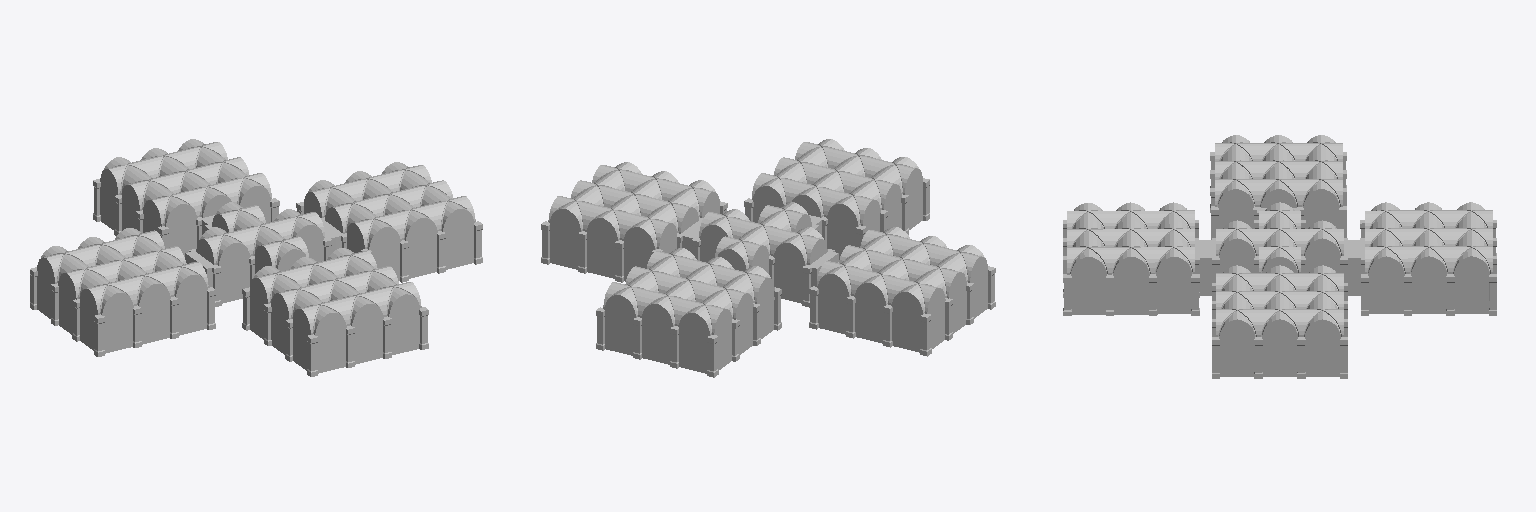
The model's file is rooms.obj.
3 renders of one model, left to right at view 1: azimuth 30°, elevation 25°; view 2: azimuth 150°, elevation 25°; view 3: azimuth 270°, elevation 25°, orthographic.
Visible parts, largest first — view 1: RoomCap_brickwall1_0, RoomCap_brickwall1_0.002_RoomCap_brickwall1_0.003, RoomCap_brickwall1_0.003_RoomCap_brickwall1_0.004, RoomCap_brickwall1_0.001_RoomCap_brickwall1_0.002, Hall.X_brickwall1_0, RoomCap_stonetrims_0.002_RoomCap_stonetrims_0.003, RoomCap_stonetrims_0, RoomCap_stonetrims_0.003_RoomCap_stonetrims_0.004, RoomCap_stonetrims_0.001_RoomCap_stonetrims_0.002, Hall.X_stonetrims_0; view 2: RoomCap_brickwall1_0, RoomCap_brickwall1_0.001_RoomCap_brickwall1_0.002, RoomCap_brickwall1_0.003_RoomCap_brickwall1_0.004, RoomCap_brickwall1_0.002_RoomCap_brickwall1_0.003, Hall.X_brickwall1_0, RoomCap_stonetrims_0, RoomCap_stonetrims_0.001_RoomCap_stonetrims_0.002, RoomCap_stonetrims_0.003_RoomCap_stonetrims_0.004, RoomCap_stonetrims_0.002_RoomCap_stonetrims_0.003, Hall.X_stonetrims_0; view 3: RoomCap_brickwall1_0.003_RoomCap_brickwall1_0.004, RoomCap_brickwall1_0.001_RoomCap_brickwall1_0.002, RoomCap_brickwall1_0.002_RoomCap_brickwall1_0.003, RoomCap_brickwall1_0, Hall.X_brickwall1_0, RoomCap_stonetrims_0.002_RoomCap_stonetrims_0.003, RoomCap_stonetrims_0.001_RoomCap_stonetrims_0.002, RoomCap_stonetrims_0.003_RoomCap_stonetrims_0.004, RoomCap_stonetrims_0, Hall.X_stonetrims_0.
Part boxes in pixels (bbox=[...]): RoomCap_brickwall1_0: bbox=[30, 228, 214, 353]; RoomCap_brickwall1_0.002_RoomCap_brickwall1_0.003: bbox=[243, 249, 427, 373]; RoomCap_brickwall1_0.003_RoomCap_brickwall1_0.004: bbox=[297, 163, 481, 280]; RoomCap_brickwall1_0.001_RoomCap_brickwall1_0.002: bbox=[94, 140, 278, 256]; Hall.X_brickwall1_0: bbox=[196, 203, 331, 303]; RoomCap_stonetrims_0.002_RoomCap_stonetrims_0.003: bbox=[242, 248, 428, 376]; RoomCap_stonetrims_0: bbox=[30, 228, 215, 356]; RoomCap_stonetrims_0.003_RoomCap_stonetrims_0.004: bbox=[296, 162, 482, 282]; RoomCap_stonetrims_0.001_RoomCap_stonetrims_0.002: bbox=[93, 139, 279, 235]; Hall.X_stonetrims_0: bbox=[186, 202, 335, 306]; RoomCap_brickwall1_0: bbox=[810, 228, 994, 352]; RoomCap_brickwall1_0.001_RoomCap_brickwall1_0.002: bbox=[597, 249, 780, 373]; RoomCap_brickwall1_0.003_RoomCap_brickwall1_0.004: bbox=[542, 163, 726, 281]; RoomCap_brickwall1_0.002_RoomCap_brickwall1_0.003: bbox=[745, 140, 929, 259]; Hall.X_brickwall1_0: bbox=[692, 203, 827, 303]; RoomCap_stonetrims_0: bbox=[809, 227, 995, 356]; RoomCap_stonetrims_0.001_RoomCap_stonetrims_0.002: bbox=[596, 248, 781, 377]; RoomCap_stonetrims_0.003_RoomCap_stonetrims_0.004: bbox=[541, 162, 727, 282]; RoomCap_stonetrims_0.002_RoomCap_stonetrims_0.003: bbox=[744, 139, 929, 234]; Hall.X_stonetrims_0: bbox=[688, 202, 837, 307]; RoomCap_brickwall1_0.003_RoomCap_brickwall1_0.004: bbox=[1212, 266, 1347, 376]; RoomCap_brickwall1_0.001_RoomCap_brickwall1_0.002: bbox=[1361, 203, 1496, 313]; RoomCap_brickwall1_0.002_RoomCap_brickwall1_0.003: bbox=[1063, 203, 1198, 314]; RoomCap_brickwall1_0: bbox=[1211, 136, 1346, 239]; Hall.X_brickwall1_0: bbox=[1212, 203, 1347, 282]; RoomCap_stonetrims_0.002_RoomCap_stonetrims_0.003: bbox=[1063, 202, 1205, 315]; RoomCap_stonetrims_0.001_RoomCap_stonetrims_0.002: bbox=[1354, 202, 1496, 315]; RoomCap_stonetrims_0.003_RoomCap_stonetrims_0.004: bbox=[1212, 265, 1347, 378]; RoomCap_stonetrims_0: bbox=[1210, 135, 1346, 215]; Hall.X_stonetrims_0: bbox=[1205, 202, 1354, 295].
Size of the model in its own units: 41.76 by 6.02 by 40.77.